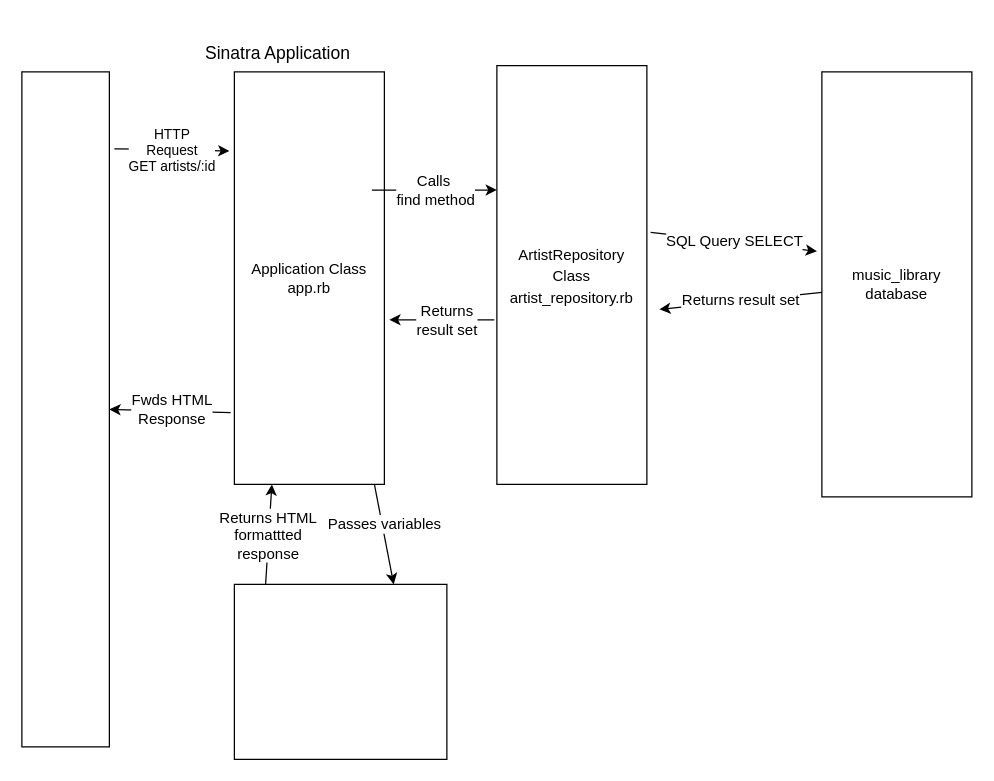
The diagram is 994 pixels wide and 781 high, and some of its shapes have lost their labels. The shapes that lost their labels are listed below. From the top down, each one's centre as x and y in pixels, then its label:
(x=65, y=409): Client
(x=340, y=671): artist.erb
